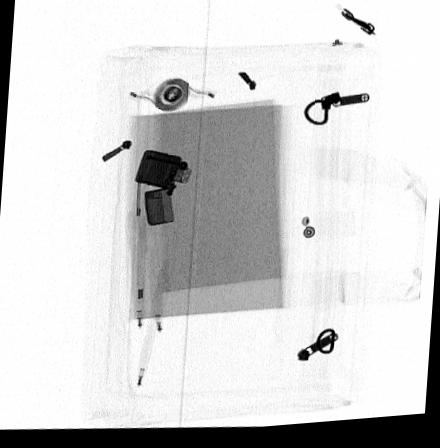Lighter: (132, 152, 192, 230)
